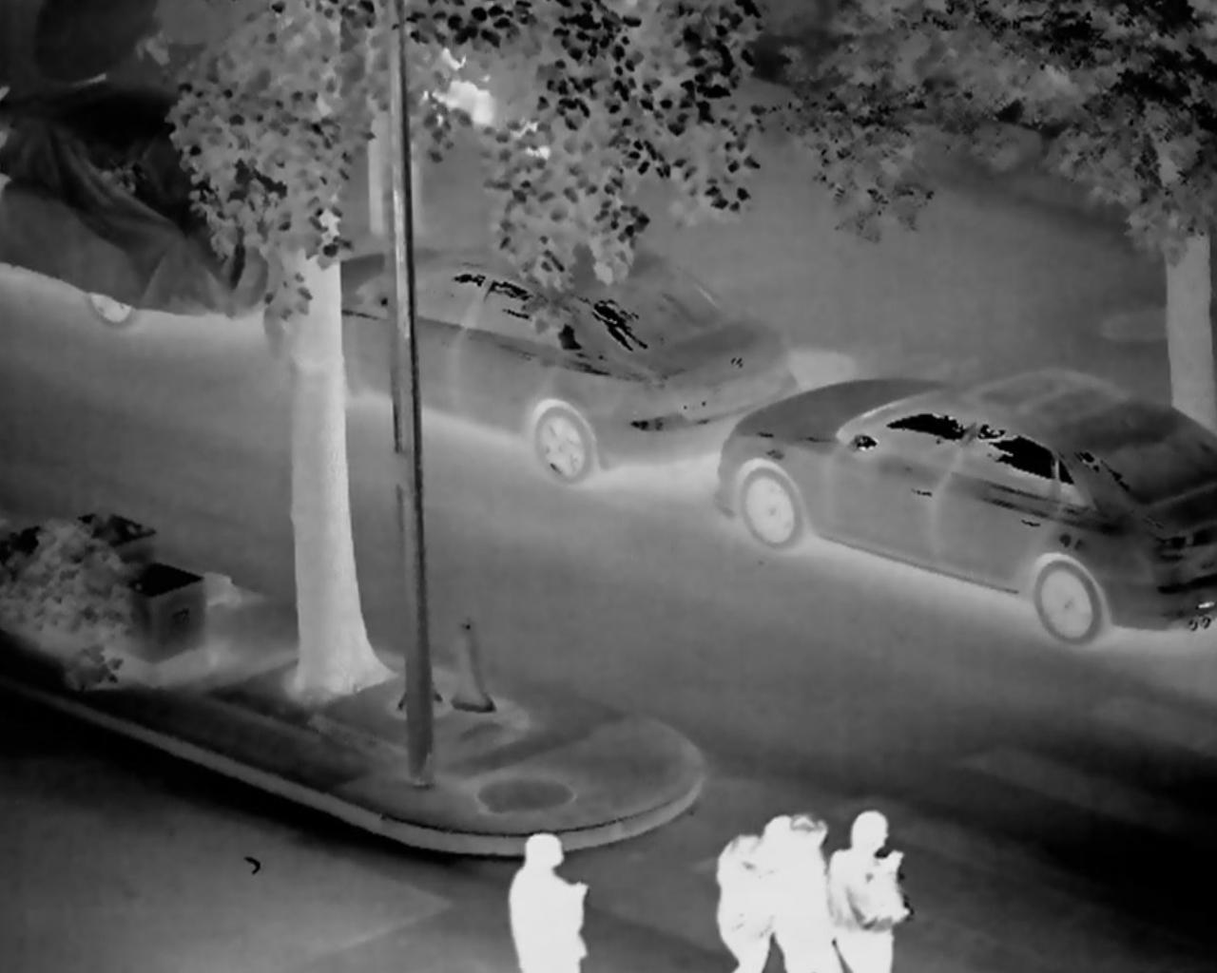person: (758, 793, 846, 973), (828, 813, 918, 973), (702, 819, 784, 973), (503, 829, 588, 973)
